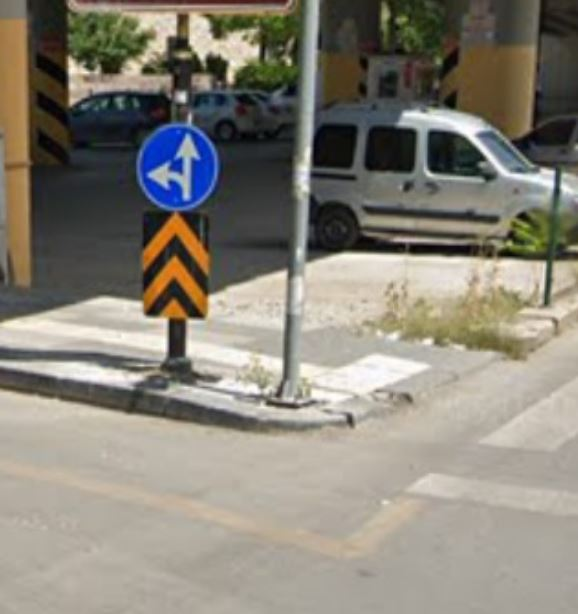ileri ve Sola Mecburi Don: (138, 122, 220, 213)
